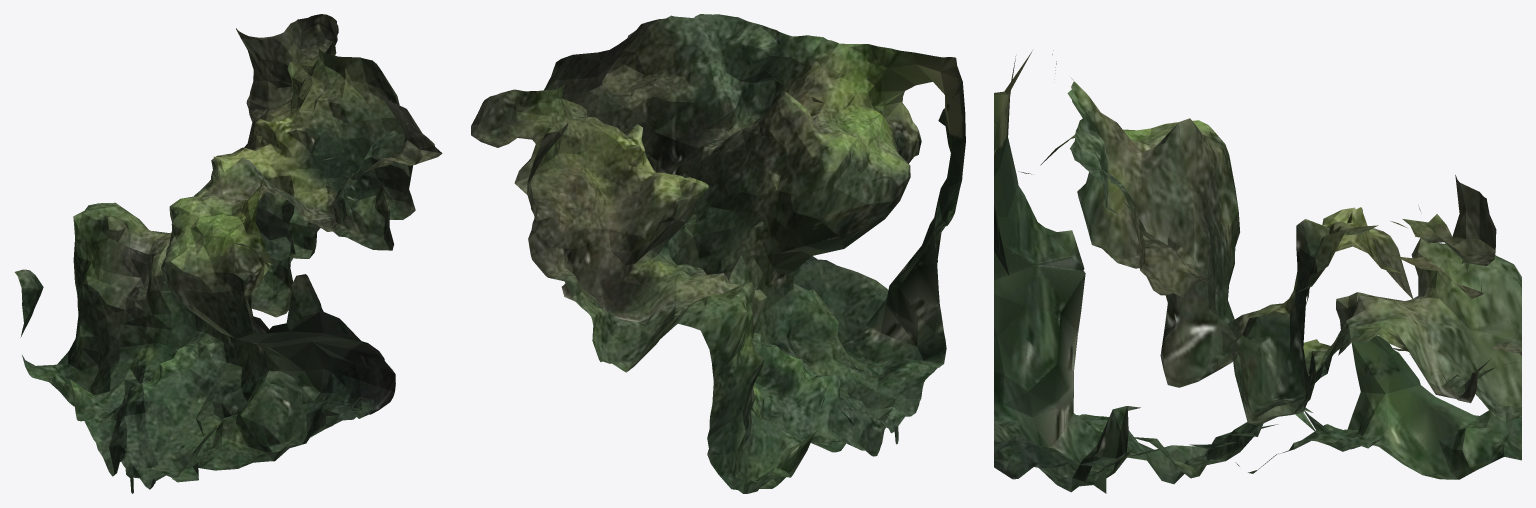
The picture shows the model from 3 angles, left to right: view 1: azimuth 30°, elevation 25°; view 2: azimuth 150°, elevation 25°; view 3: azimuth 270°, elevation 25°; orthographic projection. The views are drawn at different scales.
Size of the model in its own units: 11.07 by 11.41 by 11.8.
6 materials, 6 textured.
